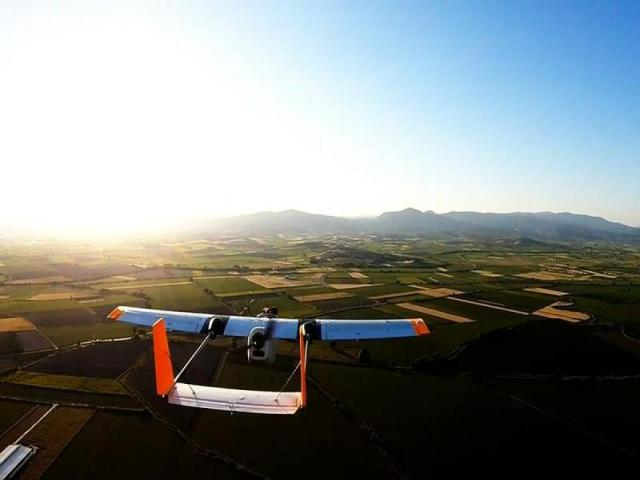hedef: (105, 291, 424, 420)
